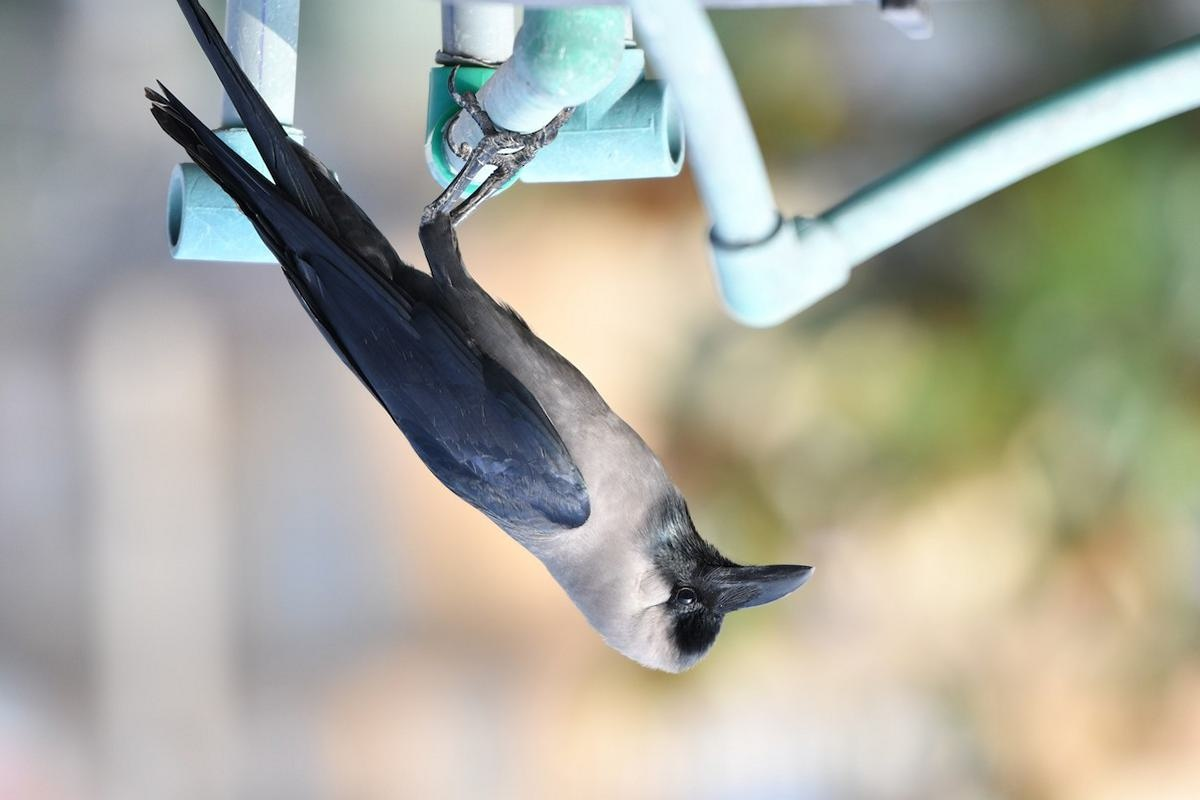crow: (116, 9, 815, 683)
